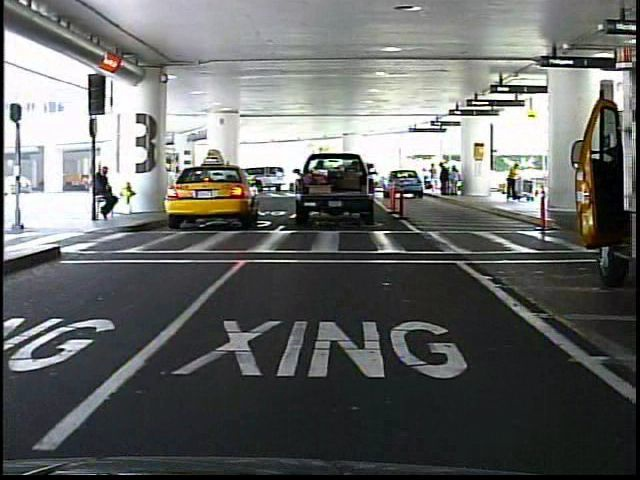person: (94, 162, 122, 227), (502, 159, 522, 208)
